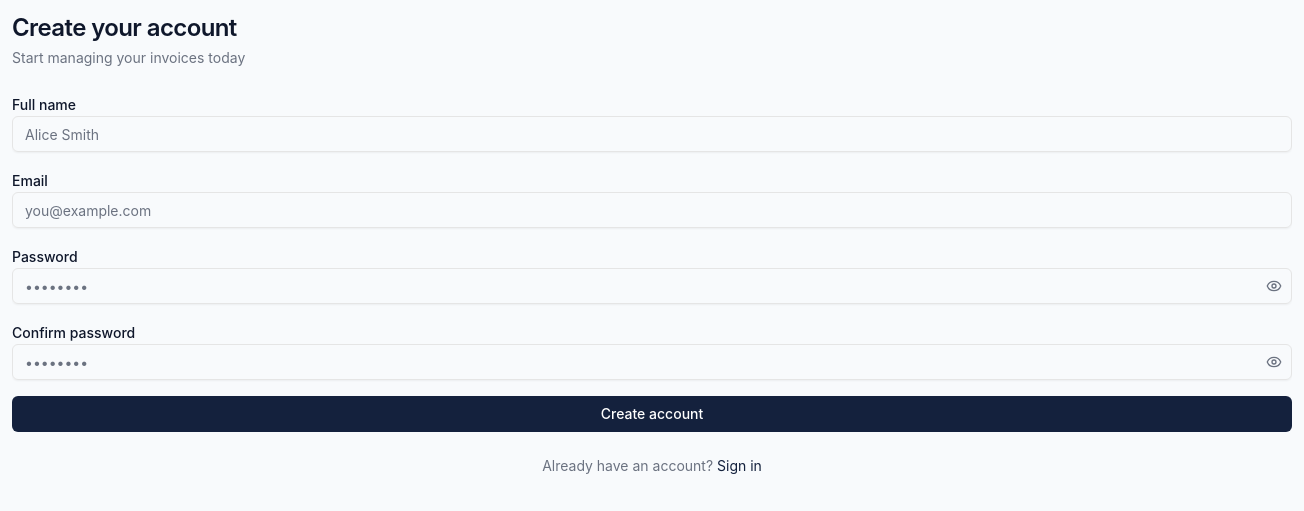
Test: RegisterForm › shows email validation error when email is invalid
Step 1. Type "Alice" into the field labelled "Full name" → x=652, y=134, box [12, 116, 1292, 152]
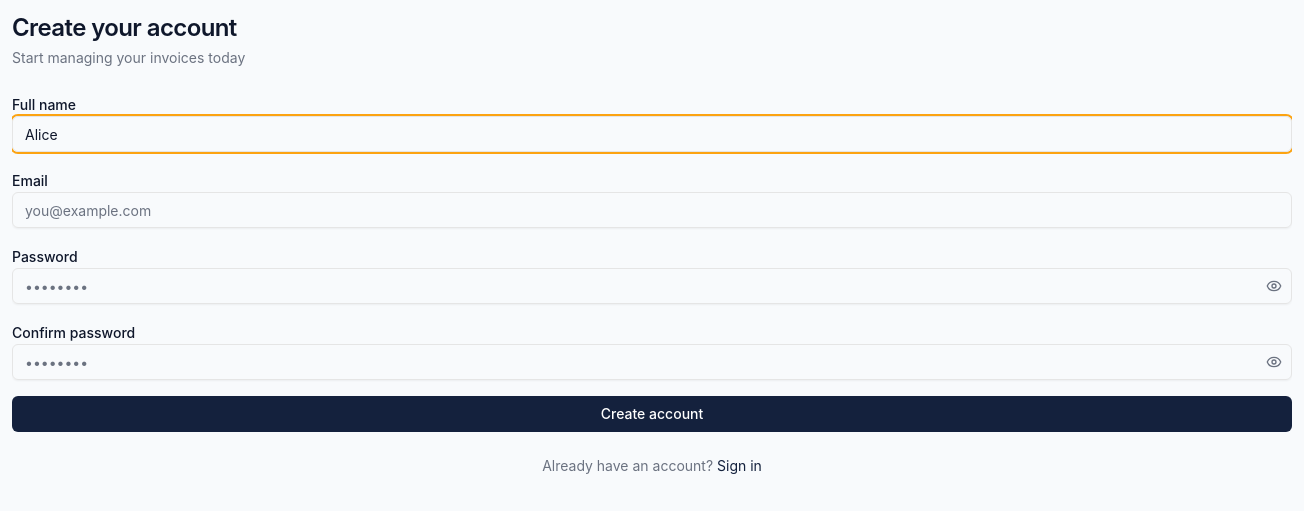
Step 2. Type "not-an-email" into the field labelled "Email" → x=652, y=210, box [12, 192, 1292, 228]
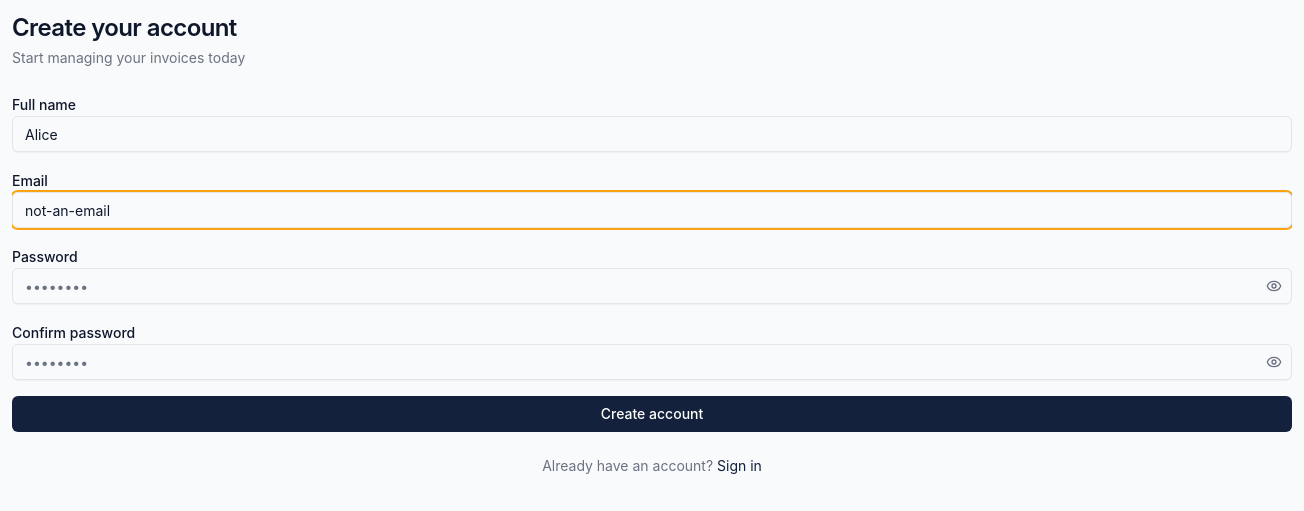
Step 3. Type "Password1" into the password field labelled "Password" → x=652, y=286, box [12, 268, 1292, 304]
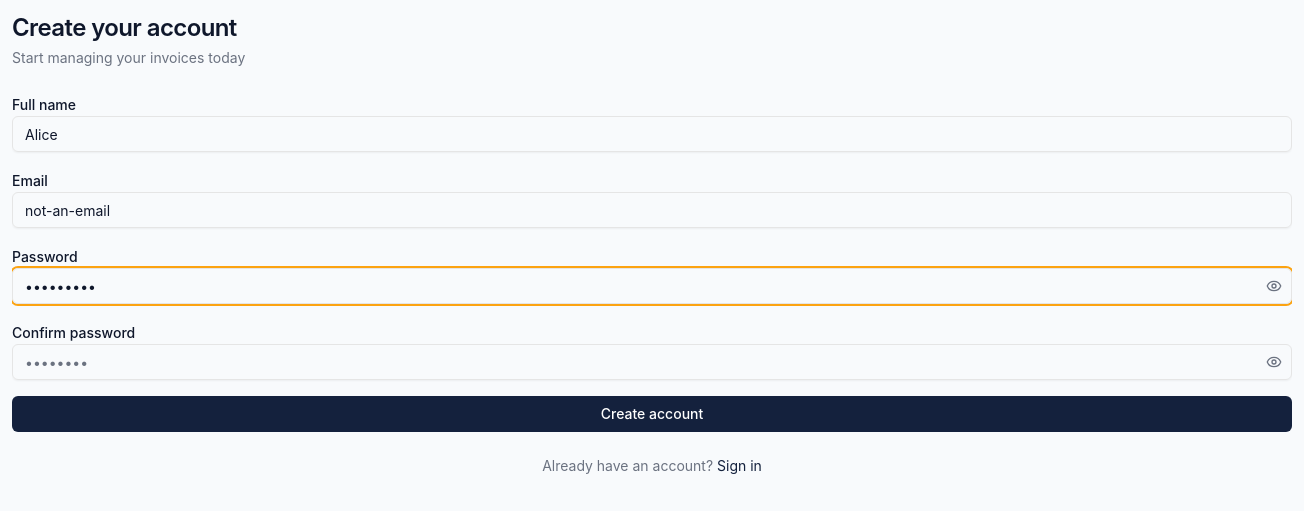
Step 4. Type "Password1" into the password field labelled "Confirm password" → x=652, y=362, box [12, 344, 1292, 380]
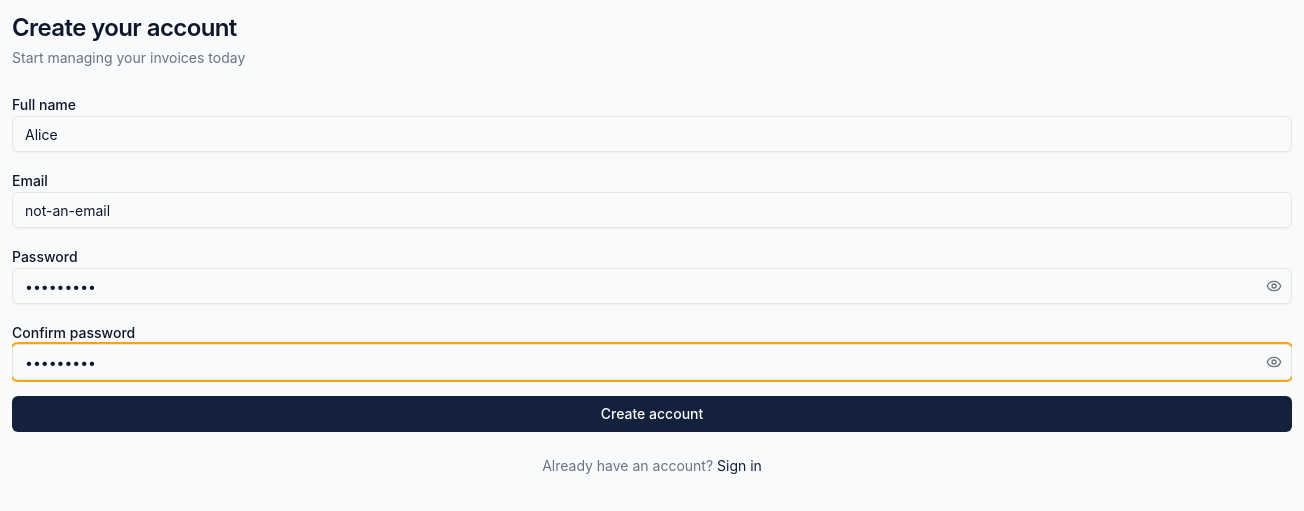
Step 5. Click the button "Create account" → x=652, y=414, box [12, 396, 1292, 432]
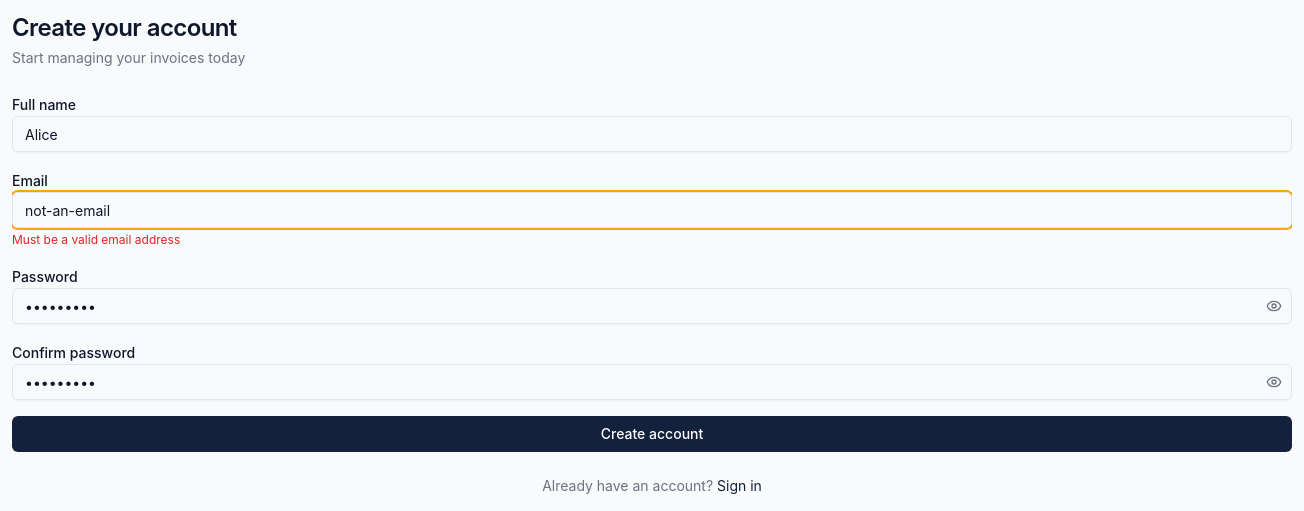
Now the message "Must be a valid email address" is shown, box [12, 232, 180, 247]
